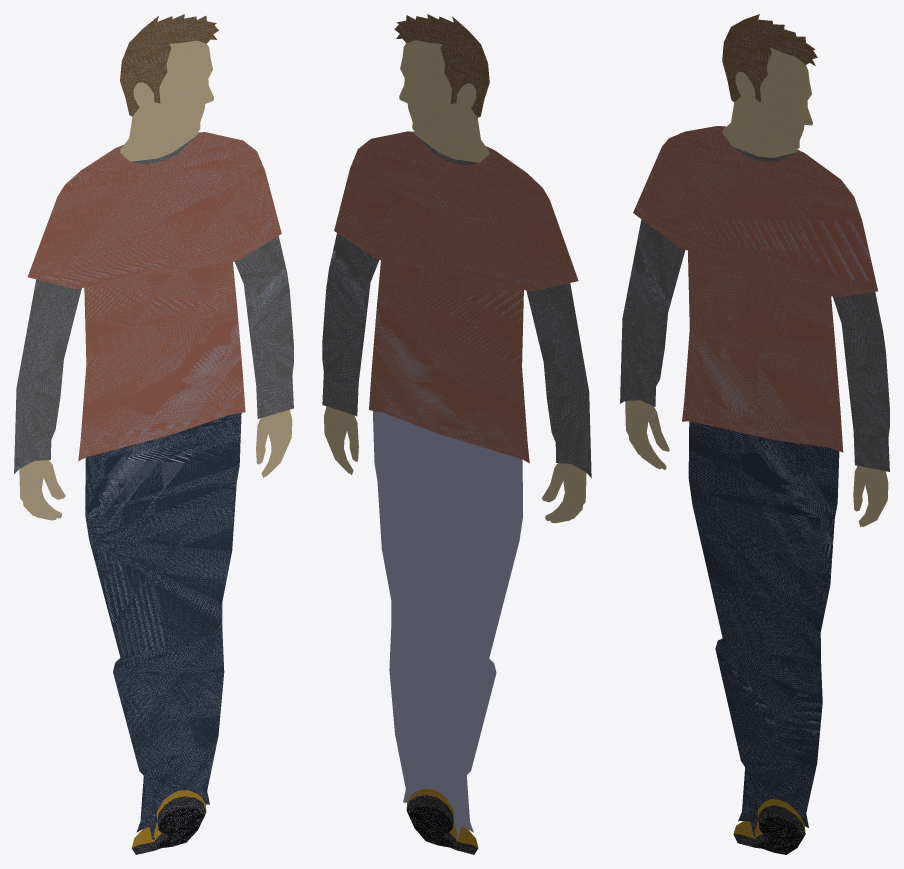
File: lawn.dae
The picture shows the model from 3 angles, left to right: view 1: azimuth 30°, elevation 25°; view 2: azimuth 150°, elevation 25°; view 3: azimuth 330°, elevation 25°; orthographic projection.
Parts seen in each view (by area): view 1: Bryce (×10); view 2: Bryce (×10); view 3: Bryce (×10).
Boxes of the visible parts, box(x1,y1,x2,y2) form: Bryce (×10): box(14, 14, 293, 848); Bryce (×10): box(322, 14, 591, 847); Bryce (×10): box(620, 14, 889, 854).
Size of what is drawn, in the model's own units: 24.54 by 0.7948 by 71.19.
